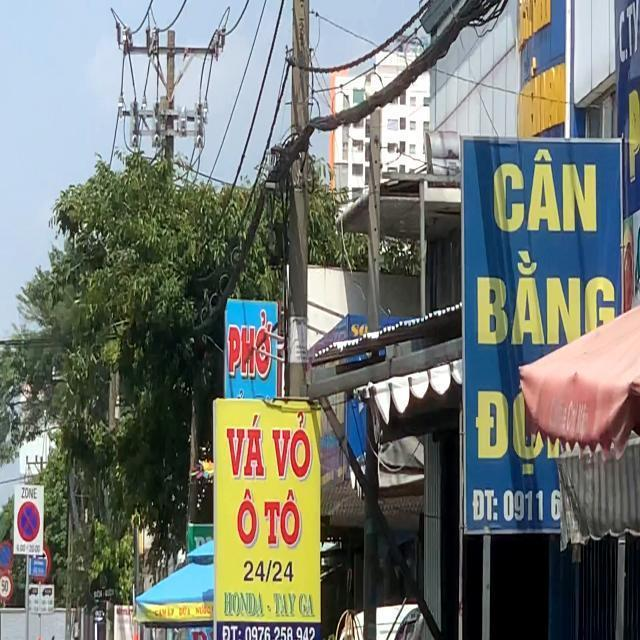127-toc-do-toi-da-50: (1, 574, 16, 599)
130-cam-dung-va-do-xe: (16, 497, 42, 540)
